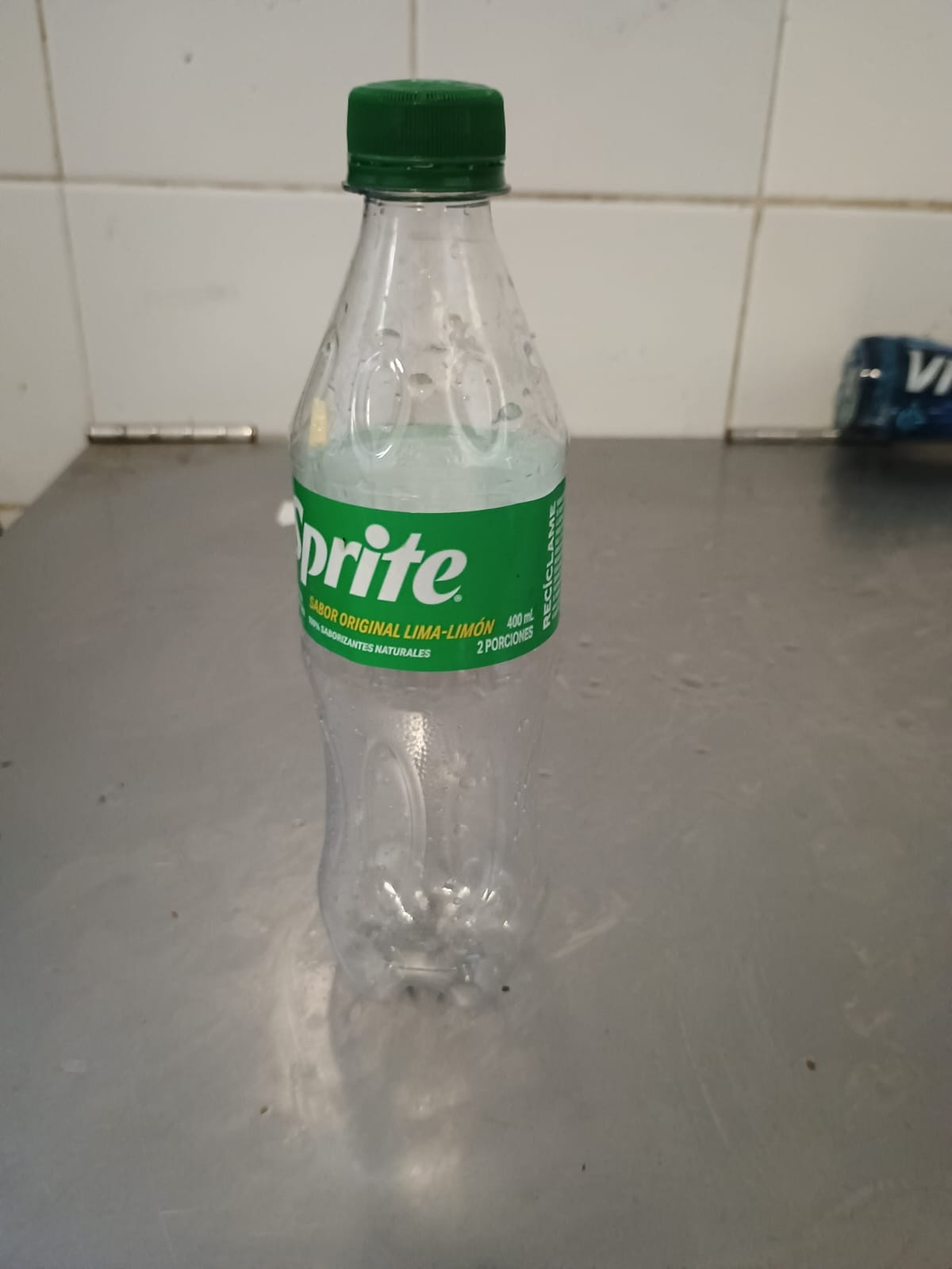Plastico: (287, 80, 575, 1011)
